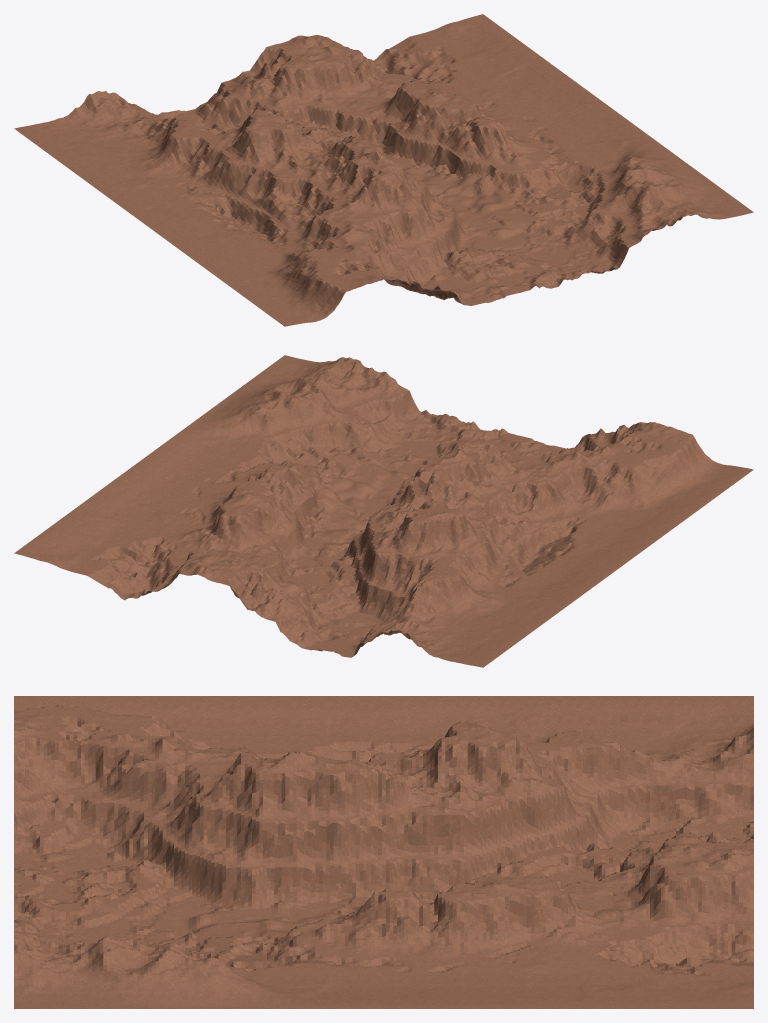
Rendered from Canyon.fbx.
3 views of the same model, one above another, from view 1: azimuth 30°, elevation 25°; view 2: azimuth 150°, elevation 25°; view 3: azimuth 270°, elevation 25° (orthographic). The views are drawn at different scales.
Parts seen in each view (by area): view 1: Landscape.001; view 2: Landscape.001; view 3: Landscape.001.
Boxes of the visible parts, x1=… form: Landscape.001: x1=14, y1=14, x2=753, y2=326; Landscape.001: x1=14, y1=355, x2=753, y2=667; Landscape.001: x1=14, y1=696, x2=753, y2=1008.
Bounding box in the file's own units: 200 × 33.25 × 200.
Materials: 1 (1 with a texture image).
